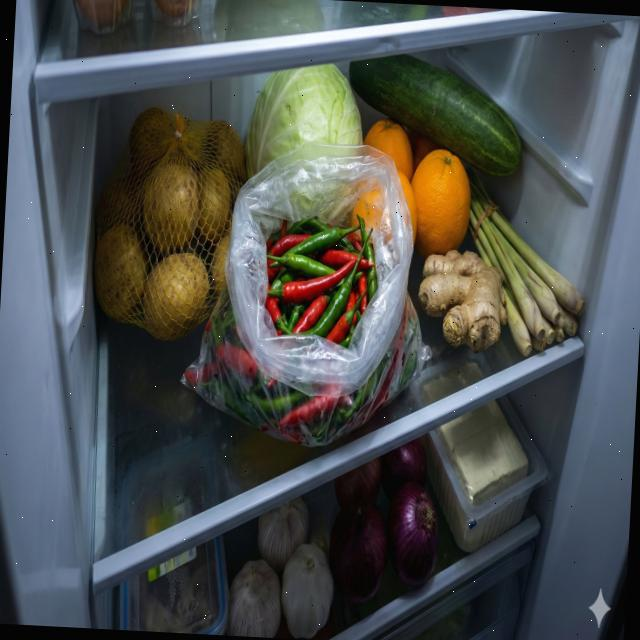cabbage: (245, 59, 368, 188)
chili: (180, 204, 425, 453)
cucumber: (344, 48, 526, 178)
garlic: (227, 491, 339, 640)
ginger: (415, 247, 511, 356)
lemongrass: (462, 184, 590, 358)
onion: (326, 432, 444, 608)
orange: (357, 118, 475, 264)
potato: (89, 104, 251, 347)
tofu: (433, 396, 532, 509)
